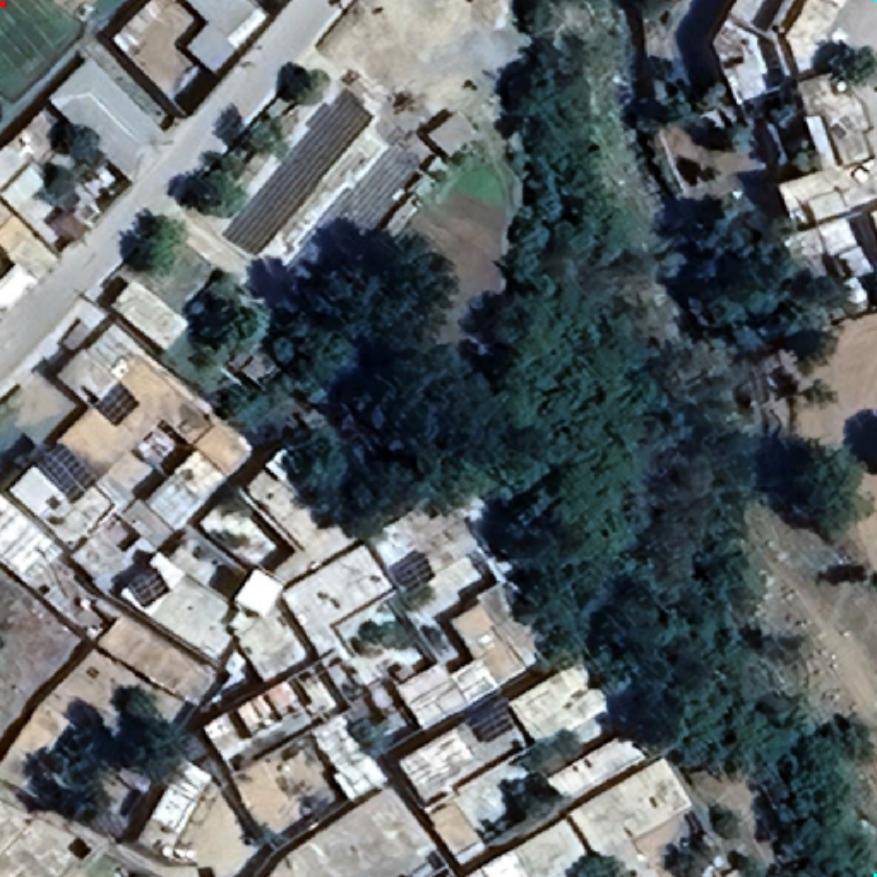Solarpanel: (28, 437, 103, 509), (92, 376, 141, 432), (468, 695, 518, 745), (391, 547, 437, 595), (128, 566, 170, 607)
